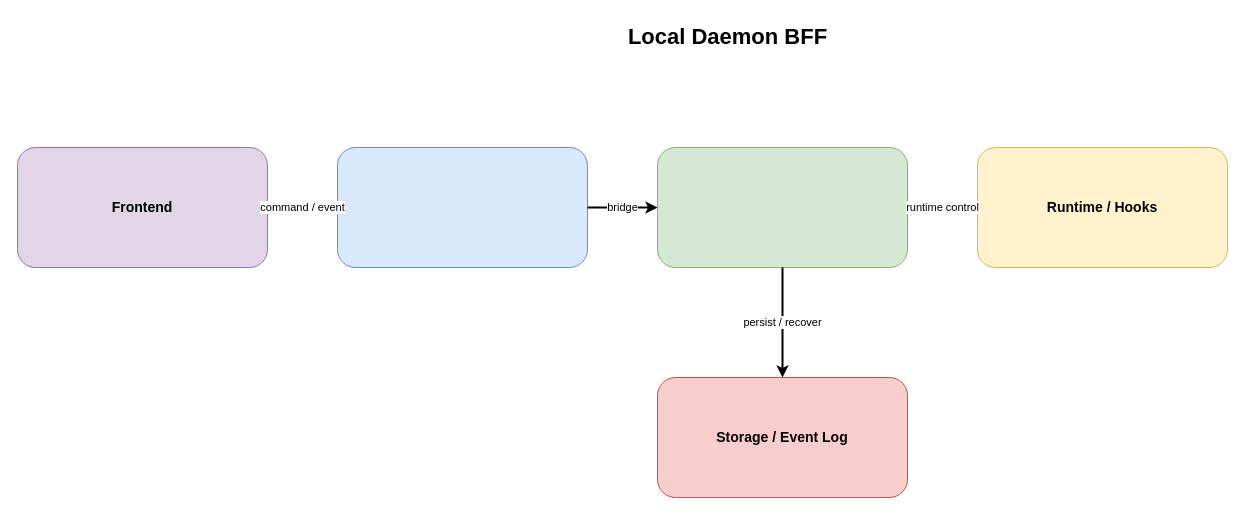
Image size: 1245x515. Some labels were removed from this diagram. The box of each missing label's shape, as (x1, y1, x2, y2) in pixels:
Backend / Daemon: (656, 146, 908, 268)
Desktop Host: (336, 146, 588, 268)
